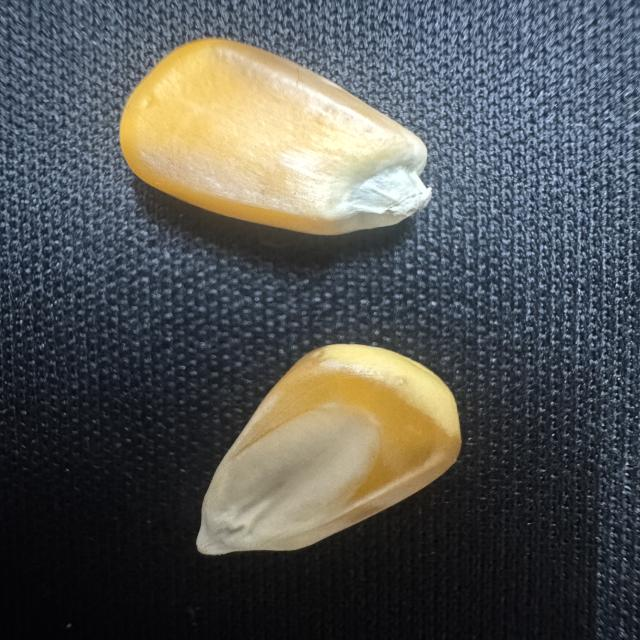Good-Seed: (111, 34, 438, 242), (189, 338, 466, 561)
